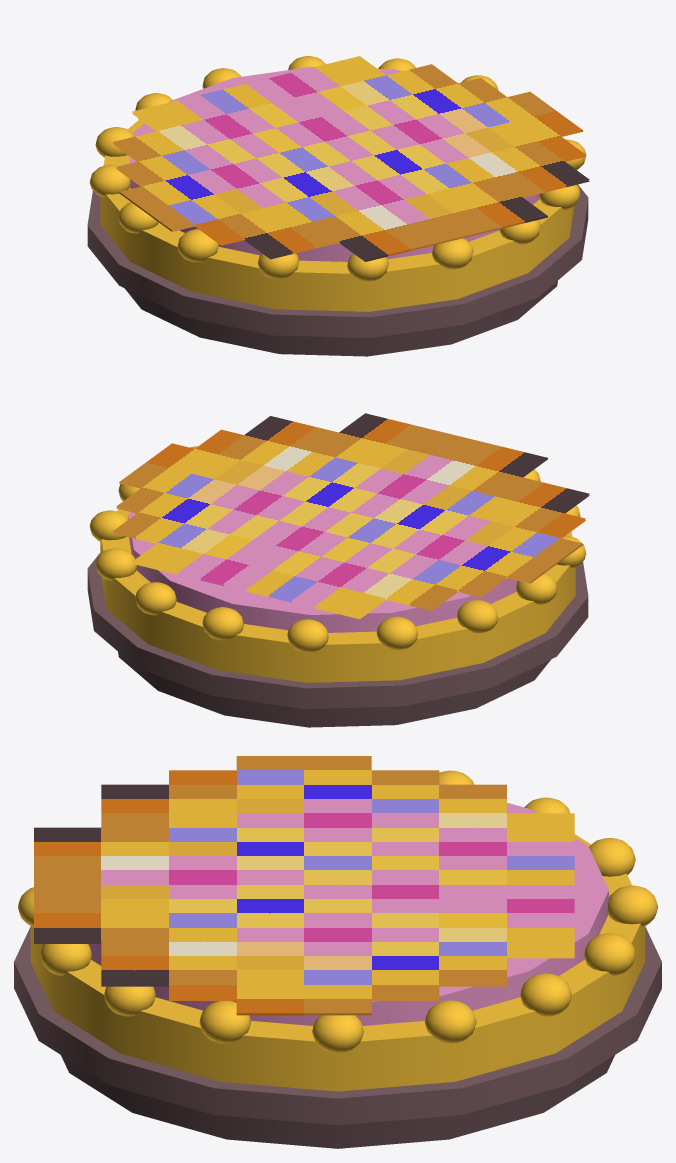
Rendered from CMU3DBakedPieClafoutis.glb.
3 views of the same model, one above another, from view 1: azimuth 30°, elevation 25°; view 2: azimuth 150°, elevation 25°; view 3: azimuth 270°, elevation 25° (orthographic). The views are drawn at different scales.
Visible parts, largest first — view 1: original pastry lattice and filling, solid pastry shell, rolled pan lip, metal pie pan, baked filling, crimped crust edge 10, crimped crust edge 13, crimped crust edge 8, crimped crust edge 12, crimped crust edge 11, crimped crust edge 9, crimped crust edge 7 (+2 smaller); view 2: original pastry lattice and filling, solid pastry shell, rolled pan lip, baked filling, metal pie pan, crimped crust edge 6, crimped crust edge 7, crimped crust edge 5, crimped crust edge 8, crimped crust edge 4, crimped crust edge 3, crimped crust edge 9 (+1 smaller); view 3: original pastry lattice and filling, solid pastry shell, rolled pan lip, metal pie pan, baked filling, crimped crust edge 2, crimped crust edge 3, crimped crust edge 4, crimped crust edge 16, crimped crust edge 5, crimped crust edge 1, crimped crust edge 6 (+2 smaller).
Part boxes in pixels (<box>): original pastry lattice and filling: <box>112,56,589,261</box>; solid pastry shell: <box>100,119,574,311</box>; rolled pan lip: <box>87,184,588,337</box>; metal pie pan: <box>125,281,557,356</box>; baked filling: <box>129,67,539,261</box>; crimped crust edge 10: <box>177,229,218,262</box>; crimped crust edge 13: <box>432,238,473,269</box>; crimped crust edge 8: <box>89,164,130,197</box>; crimped crust edge 12: <box>347,253,388,281</box>; crimped crust edge 11: <box>258,253,299,278</box>; crimped crust edge 9: <box>118,202,158,233</box>; crimped crust edge 7: <box>95,127,133,157</box>; original pastry lattice and filling: <box>112,413,589,619</box>; solid pastry shell: <box>100,509,575,682</box>; rolled pan lip: <box>87,553,588,708</box>; baked filling: <box>128,512,517,632</box>; metal pie pan: <box>118,652,550,727</box>; crimped crust edge 6: <box>287,619,328,652</box>; crimped crust edge 7: <box>376,616,417,649</box>; crimped crust edge 5: <box>202,607,243,640</box>; crimped crust edge 8: <box>457,600,498,633</box>; crimped crust edge 4: <box>135,582,176,615</box>; crimped crust edge 3: <box>95,548,136,580</box>; crimped crust edge 9: <box>516,573,557,604</box>; original pastry lattice and filling: <box>34,756,574,1015</box>; solid pastry shell: <box>30,834,645,1091</box>; rolled pan lip: <box>14,927,661,1125</box>; metal pie pan: <box>61,1055,614,1148</box>; baked filling: <box>88,784,608,1025</box>; crimped crust edge 2: <box>424,1000,476,1043</box>; crimped crust edge 3: <box>520,973,571,1016</box>; crimped crust edge 4: <box>584,933,635,975</box>; crimped crust edge 16: <box>199,1001,251,1043</box>; crimped crust edge 5: <box>607,885,657,926</box>; crimped crust edge 1: <box>312,1015,363,1052</box>; crimped crust edge 6: <box>589,838,635,876</box>.
Size of the model in its own units: 0.5488 by 0.132 by 0.5488.
Materials: 5 (1 with a texture image).
